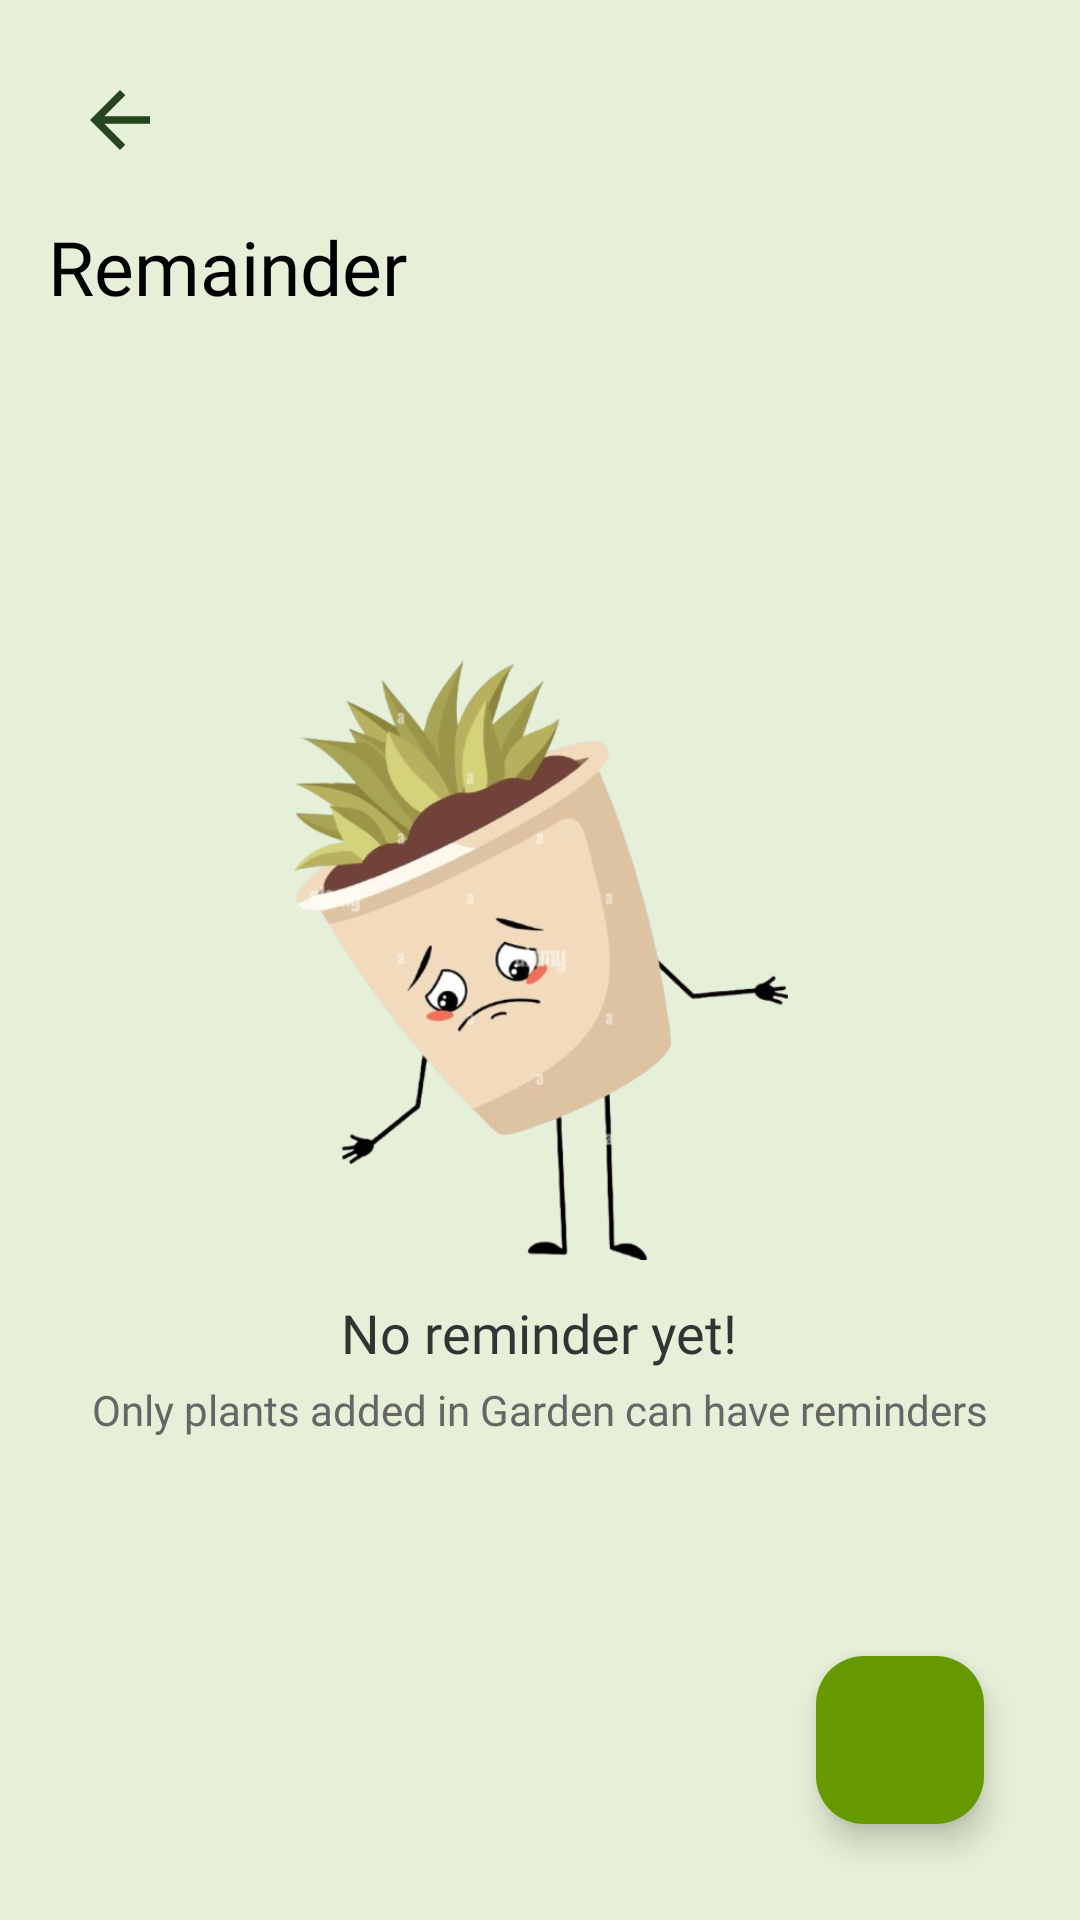

Icon bounding boxes for this 1080 × 1920 phone screenshot, format (x1, y1, x2, y2):
Back: (90, 90, 150, 150)
